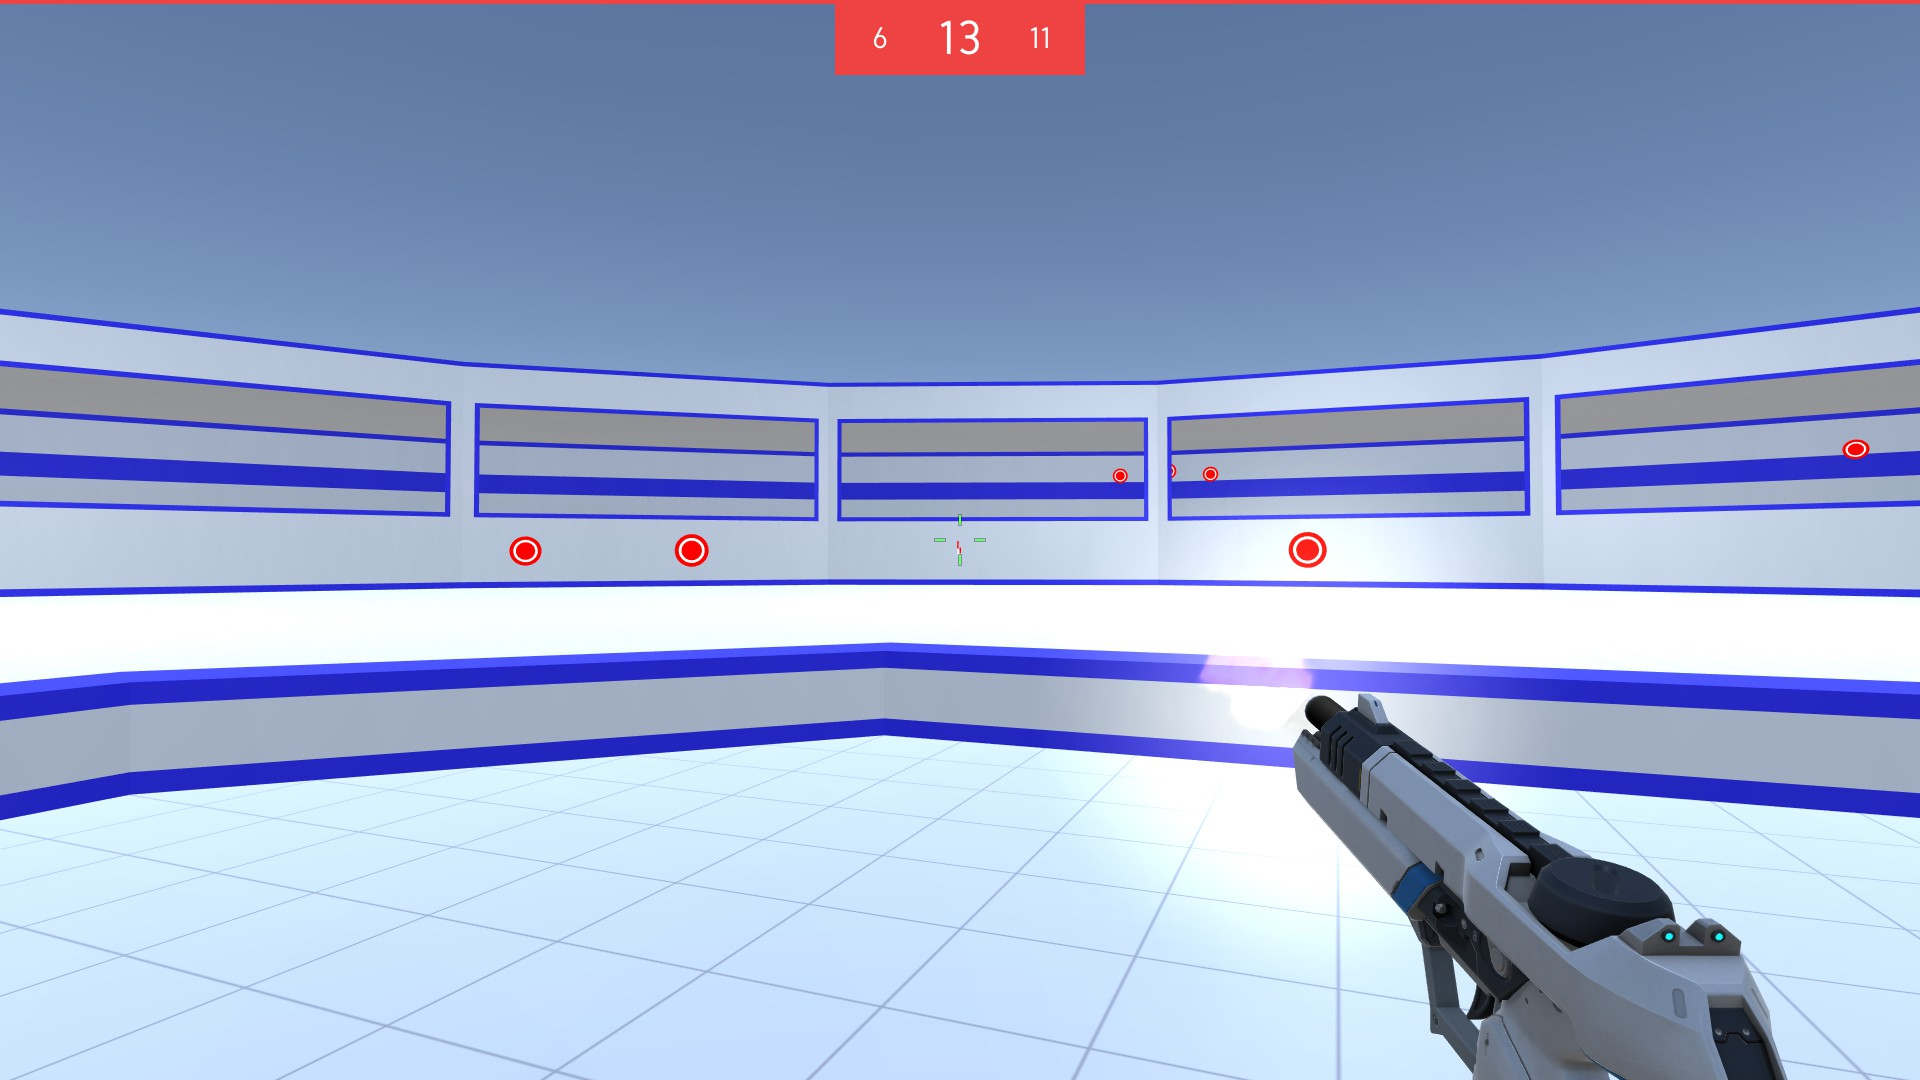target: (1288, 530, 1329, 570), (508, 535, 549, 566), (674, 531, 709, 564), (1844, 436, 1869, 463), (1203, 465, 1221, 483), (1112, 468, 1130, 484), (1167, 464, 1178, 479)
